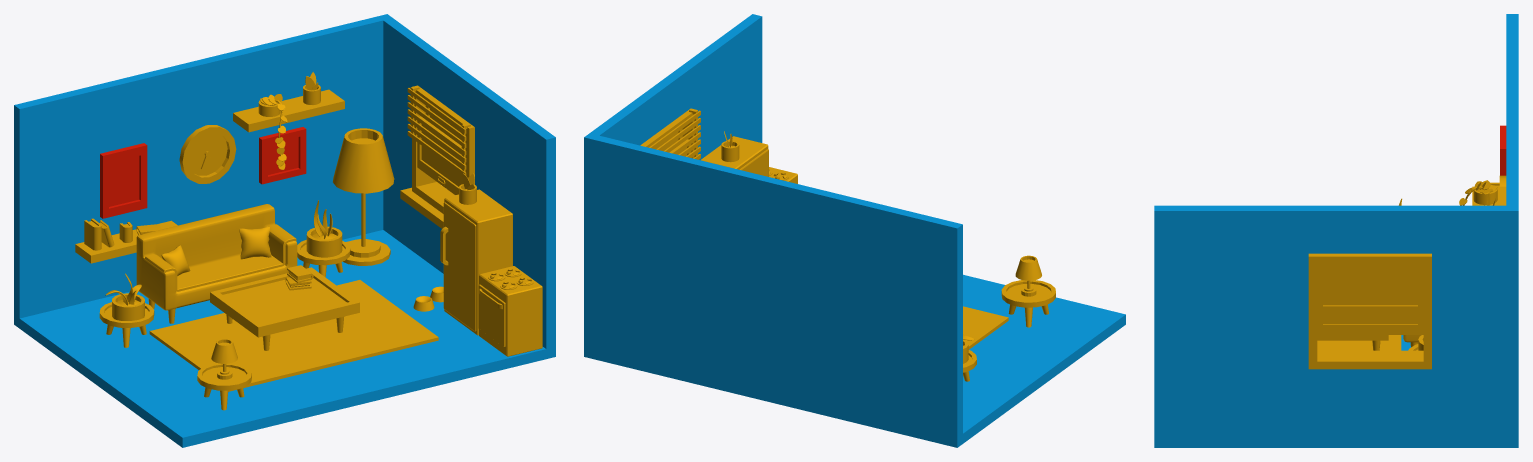
The model's file is Room_low.fbx.
3 renders of one model, left to right at view 1: azimuth 30°, elevation 25°; view 2: azimuth 150°, elevation 25°; view 3: azimuth 270°, elevation 25°, orthographic. The views are drawn at different scales.
Parts seen in each view (by area): view 1: wall_front_low, floor_low, wall_side_low, carpet_low, sofa_low, table_low, fridge1_low, stove_low, fridge_low, photo_02_low, lamp_02_low, clock_low (+15 smaller); view 2: wall_front_low, floor_low, wall_side_low, table_small_low, carpet_low, fridge_low, lamp_01_low, window_low; view 3: wall_side_low, wall_front_low, window_low, window_part_03_low, floor_low, window_part_02_low, carpet_low, table_low.
Boxes of the visible parts, bbox=[...] form: wall_front_low: bbox=[14, 14, 392, 327]; floor_low: bbox=[14, 230, 555, 447]; wall_side_low: bbox=[381, 16, 555, 358]; carpet_low: bbox=[149, 280, 438, 391]; sofa_low: bbox=[136, 204, 297, 310]; table_low: bbox=[210, 267, 359, 337]; fridge1_low: bbox=[443, 202, 476, 331]; stove_low: bbox=[479, 266, 542, 356]; fridge_low: bbox=[444, 189, 512, 335]; photo_02_low: bbox=[100, 143, 147, 218]; lamp_02_low: bbox=[333, 128, 394, 193]; clock_low: bbox=[179, 125, 236, 183]; wall_front_low: bbox=[584, 134, 962, 447]; floor_low: bbox=[957, 274, 1125, 447]; wall_side_low: bbox=[587, 14, 762, 159]; table_small_low: bbox=[1001, 280, 1055, 307]; carpet_low: bbox=[963, 306, 1008, 349]; fridge_low: bbox=[700, 136, 768, 169]; lamp_01_low: bbox=[1015, 255, 1041, 280]; window_low: bbox=[640, 108, 694, 158]; wall_side_low: bbox=[1154, 205, 1512, 447]; wall_front_low: bbox=[1506, 14, 1518, 447]; window_low: bbox=[1308, 253, 1431, 369]; window_part_03_low: bbox=[1317, 264, 1423, 315]; floor_low: bbox=[1154, 335, 1518, 447]; window_part_02_low: bbox=[1317, 316, 1423, 334]; carpet_low: bbox=[1317, 335, 1401, 350]; table_low: bbox=[1317, 335, 1388, 340].
Size of the model in its own units: 35.91 by 19.88 by 27.67.
